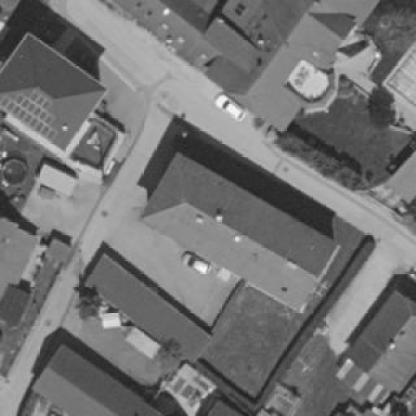solar-pv-panel: (0, 90, 58, 141)
